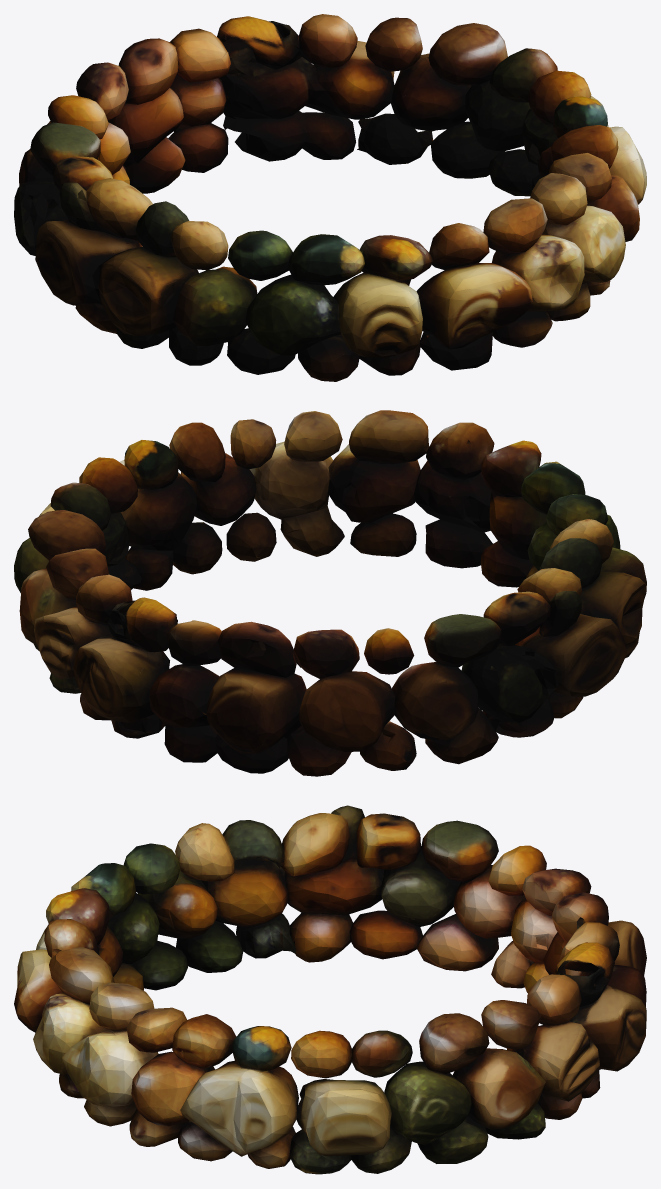
The model's file is ceramic-bracelet-rustic.jpeg.glb.
3 renders of one model, top to bottom at view 1: azimuth 30°, elevation 25°; view 2: azimuth 150°, elevation 25°; view 3: azimuth 270°, elevation 25°, orthographic.
Visible parts, largest first — view 1: world; view 2: world; view 3: world.
Part boxes in pixels (left/top/right/bottom): world: left=14, top=14, right=646, bottom=381; world: left=14, top=410, right=646, bottom=776; world: left=14, top=805, right=646, bottom=1174.
Bounding box in the file's own units: 0.9981 × 0.2557 × 1.
1 material, 1 textured.
